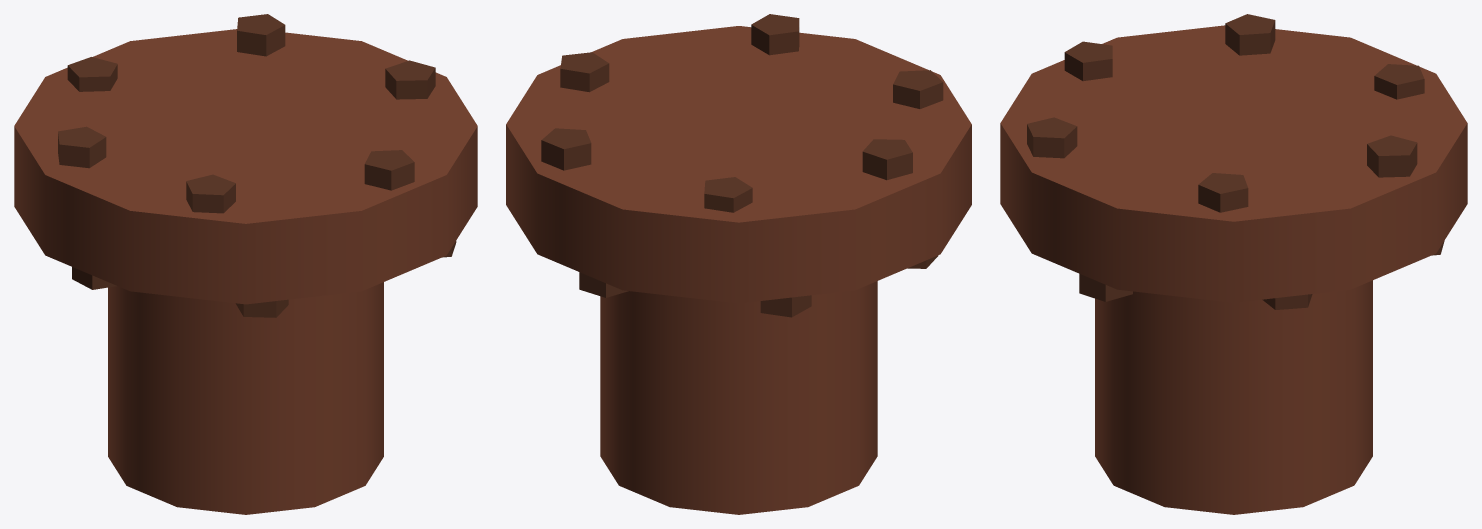
The model's file is canos_001.fbx.
The picture shows the model from 3 angles, left to right: view 1: azimuth 30°, elevation 25°; view 2: azimuth 150°, elevation 25°; view 3: azimuth 270°, elevation 25°; orthographic projection.
Parts seen in each view (by area): view 1: canos_001; view 2: canos_001; view 3: canos_001.
Boxes of the visible parts, x1=… form: canos_001: x1=14, y1=14, x2=477, y2=514; canos_001: x1=506, y1=14, x2=971, y2=514; canos_001: x1=1000, y1=14, x2=1467, y2=514.
Size of the model in its own units: 121 by 101 by 121.
